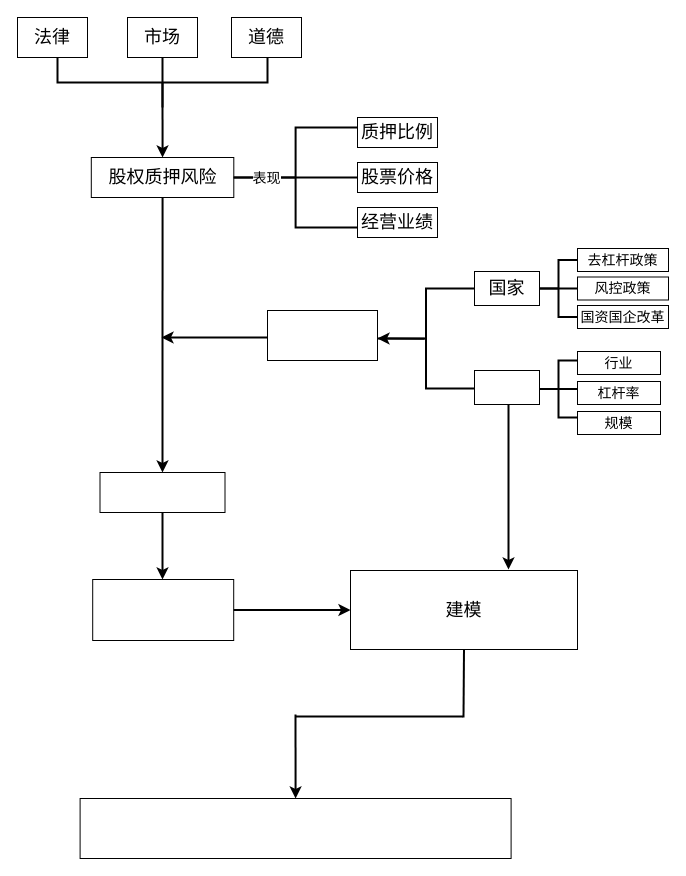
The diagram is 686 pixels wide and 876 high, and some of its shapes have lost their labels. Here are the shapes that lost their labels. From the top down, the centre of each, then its label:
At pixel 322 335: "国有化".
At pixel 507 387: "企业".
At pixel 162 492: "风险化解".
At pixel 163 609: "国有化影响".
At pixel 295 828: "适合国有化化解风险的企业特征".
